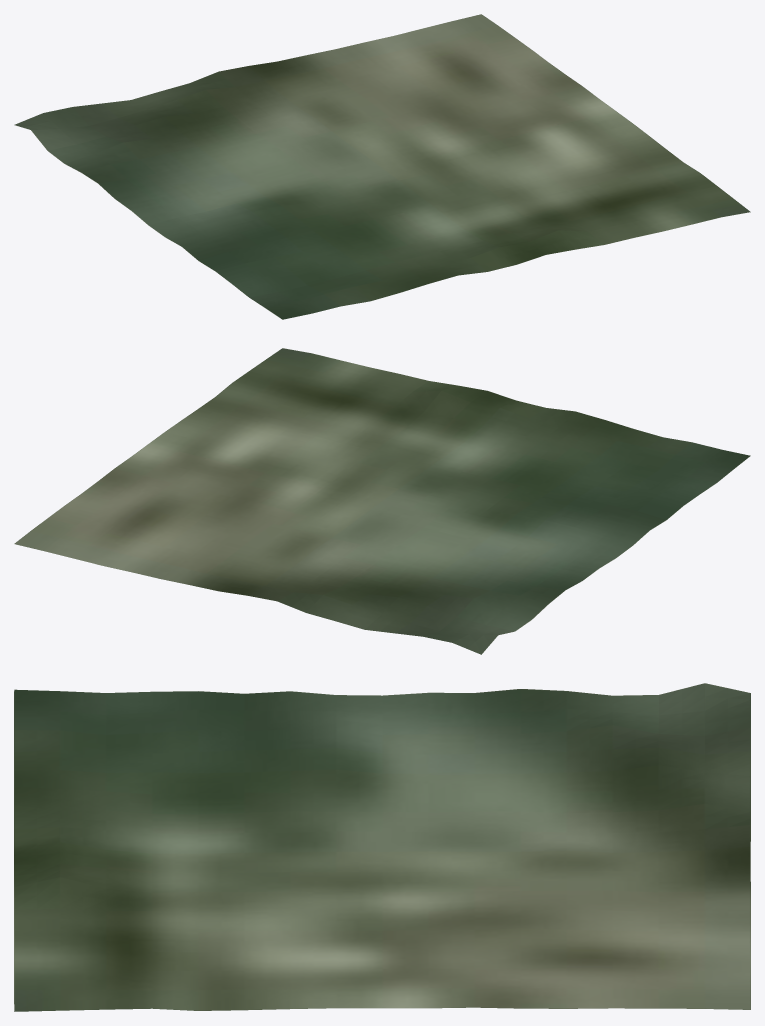
3 views of the same model, one above another, from view 1: azimuth 30°, elevation 25°; view 2: azimuth 150°, elevation 25°; view 3: azimuth 270°, elevation 25° (orthographic). The views are drawn at different scales.
Size of the model in its own units: 15644 by 400 by 15567.
1 material, 1 textured.
